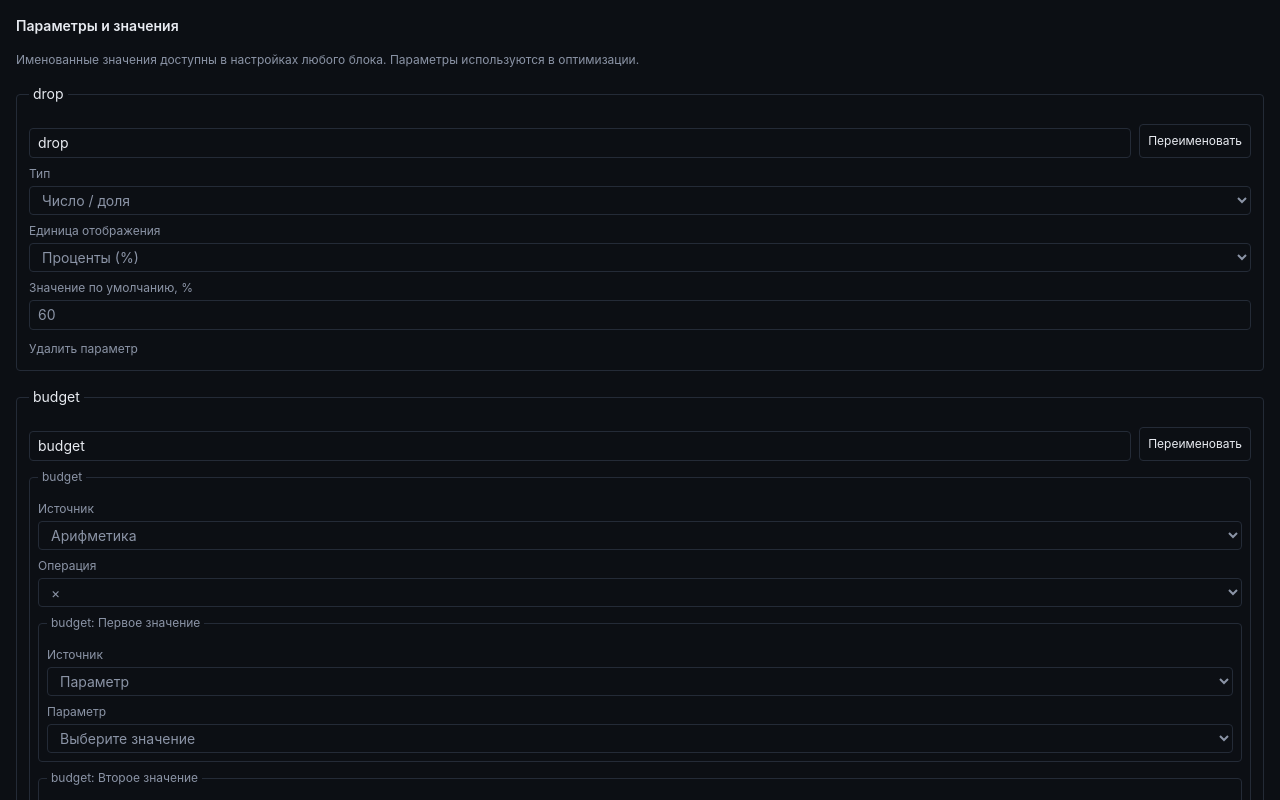
it: edits Ladder percentages with decimal drafts and stores exact fractions through undo
Replace the text in the field named "Значение параметра drop, %" with "0." at (640, 315), box [29, 300, 1251, 330]
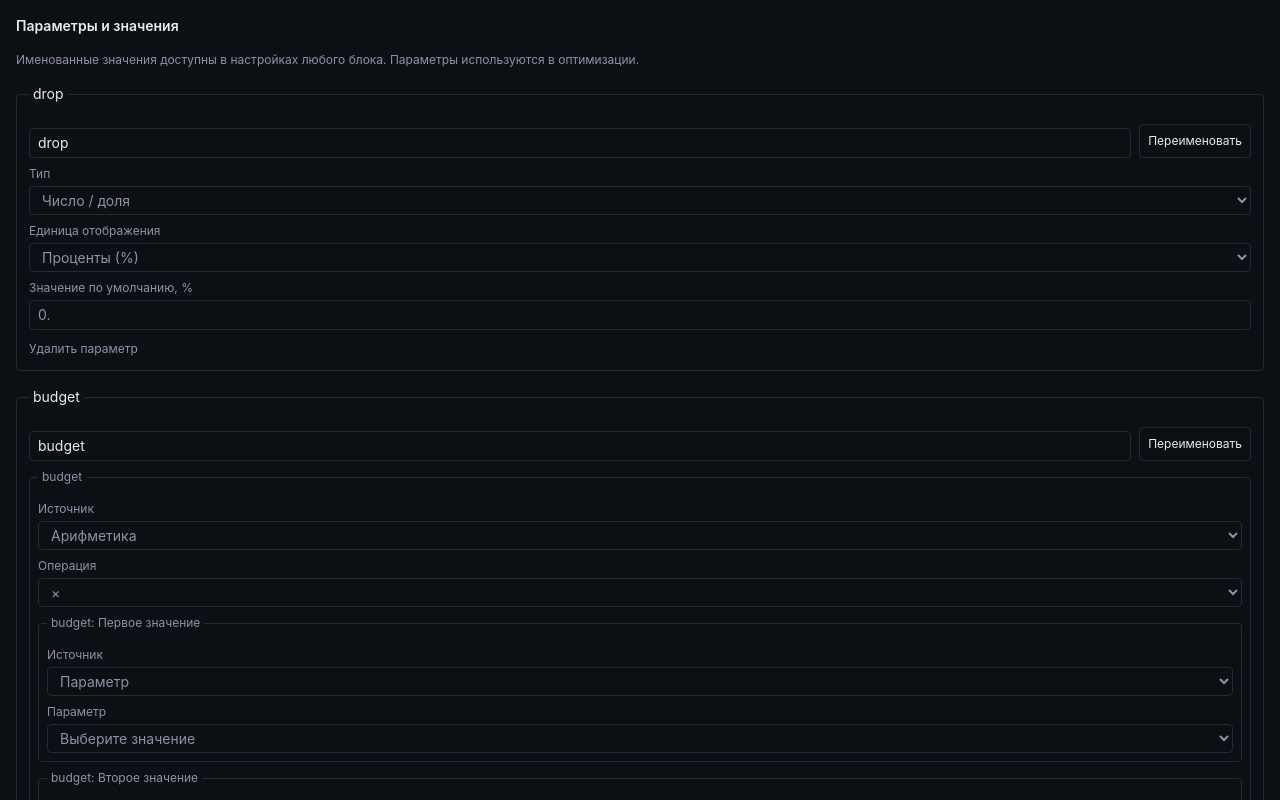
Replace the text in the field named "Значение параметра drop, %" with "0.6" at (640, 315), box [29, 300, 1251, 330]
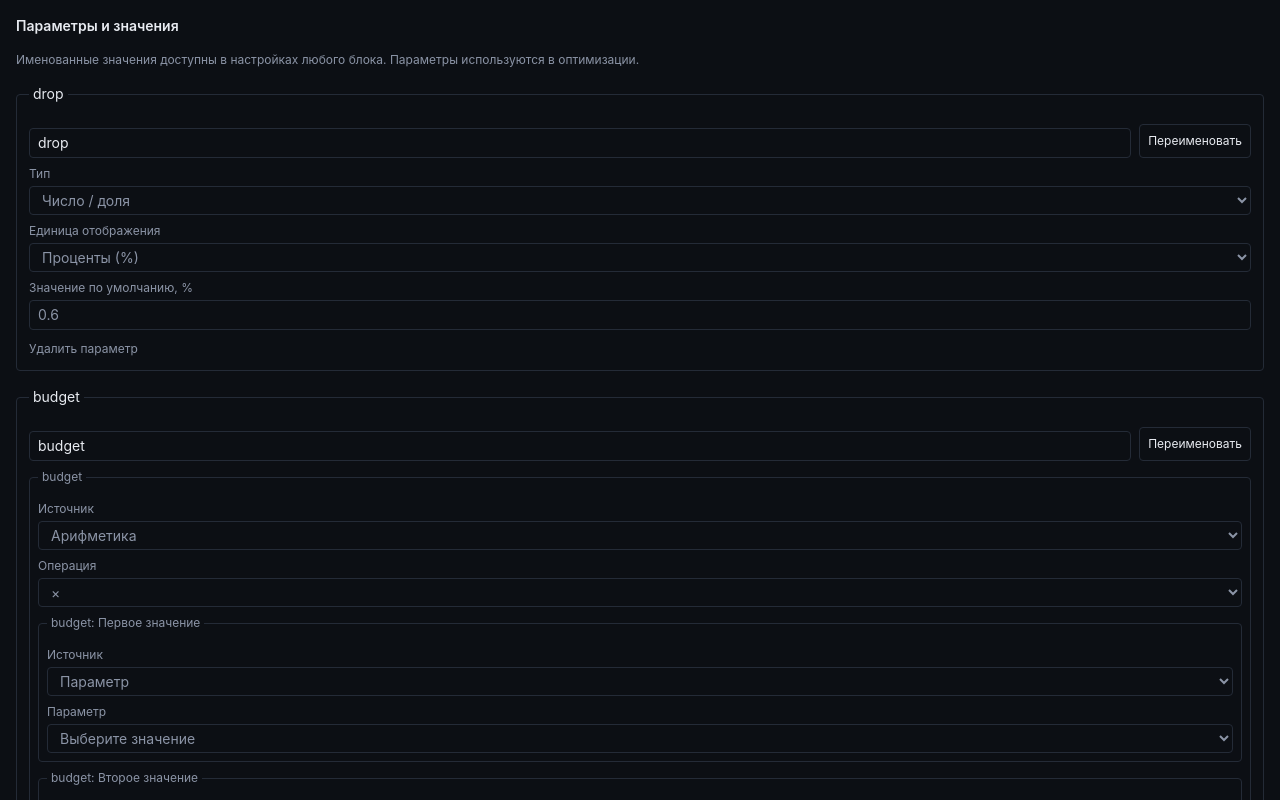
Leave the field named "Значение параметра drop, %", box [29, 300, 1251, 330]
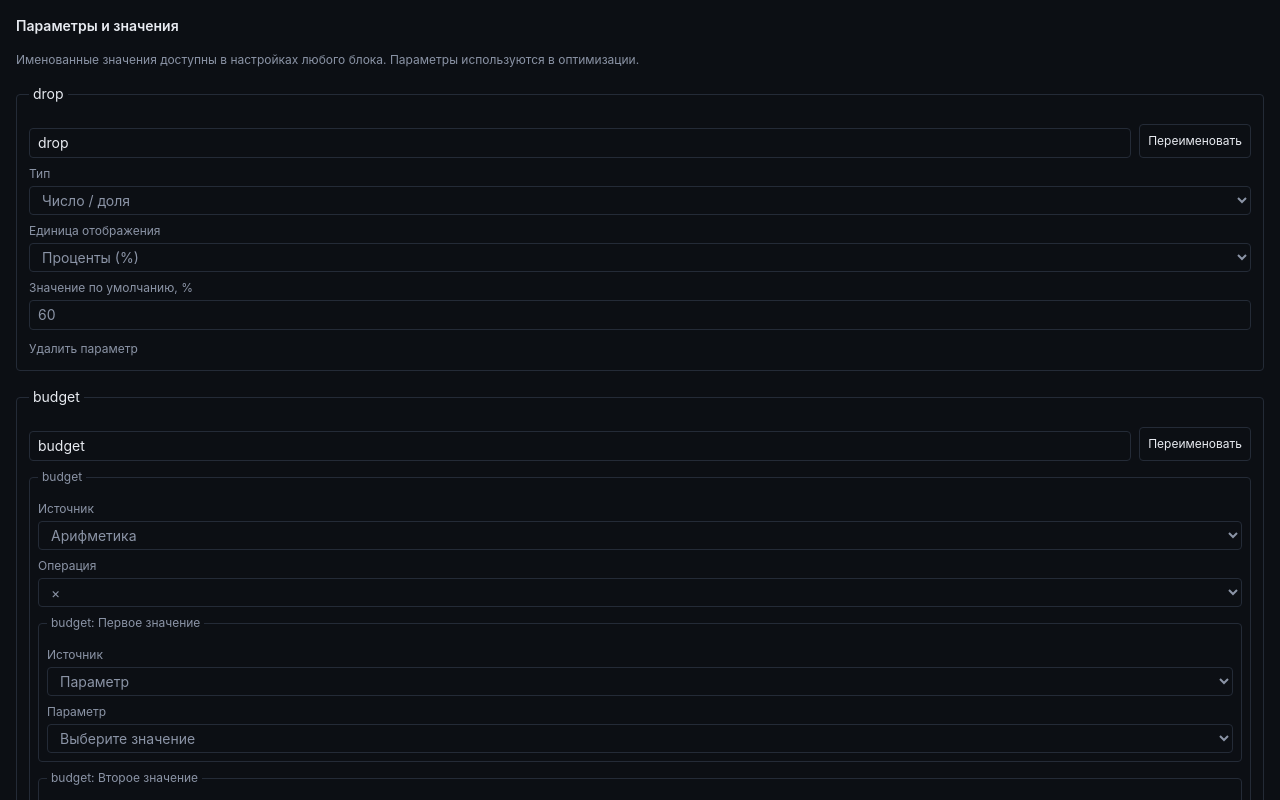
Check: the field named "Значение параметра drop, %" holds "60", box [29, 300, 1251, 330]
